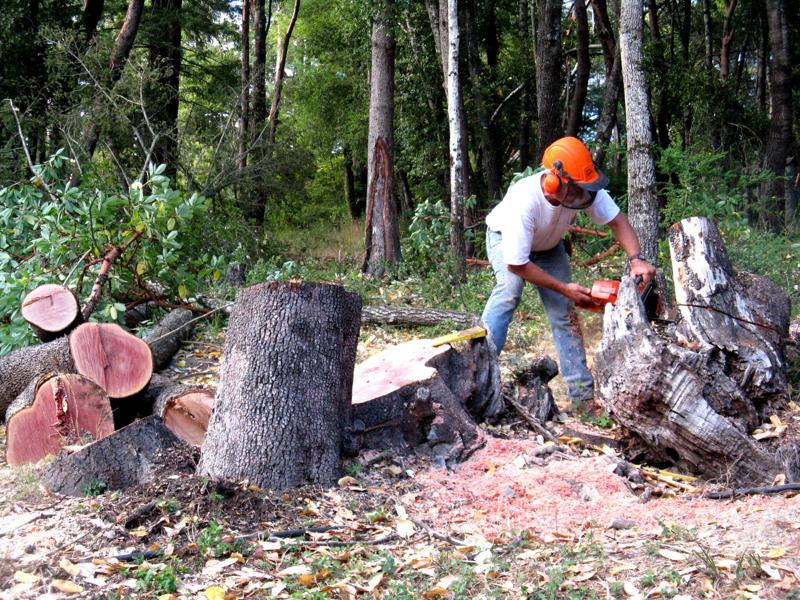person: (481, 136, 656, 422)
